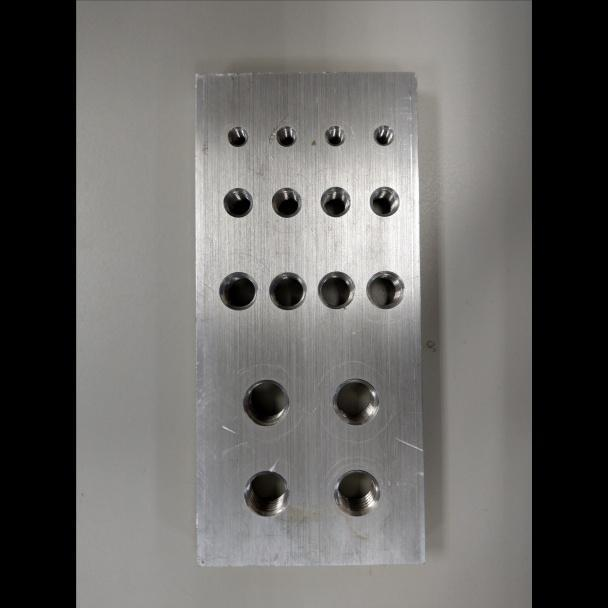hole: (331, 467, 382, 518), (331, 376, 381, 427), (240, 377, 291, 427), (241, 469, 291, 518), (315, 269, 357, 310), (216, 270, 258, 311), (364, 269, 405, 310), (268, 270, 308, 311), (268, 185, 303, 219), (367, 185, 402, 218), (318, 185, 352, 218), (221, 186, 254, 219), (371, 123, 396, 147), (225, 125, 249, 148), (322, 124, 345, 147), (274, 124, 297, 147)
